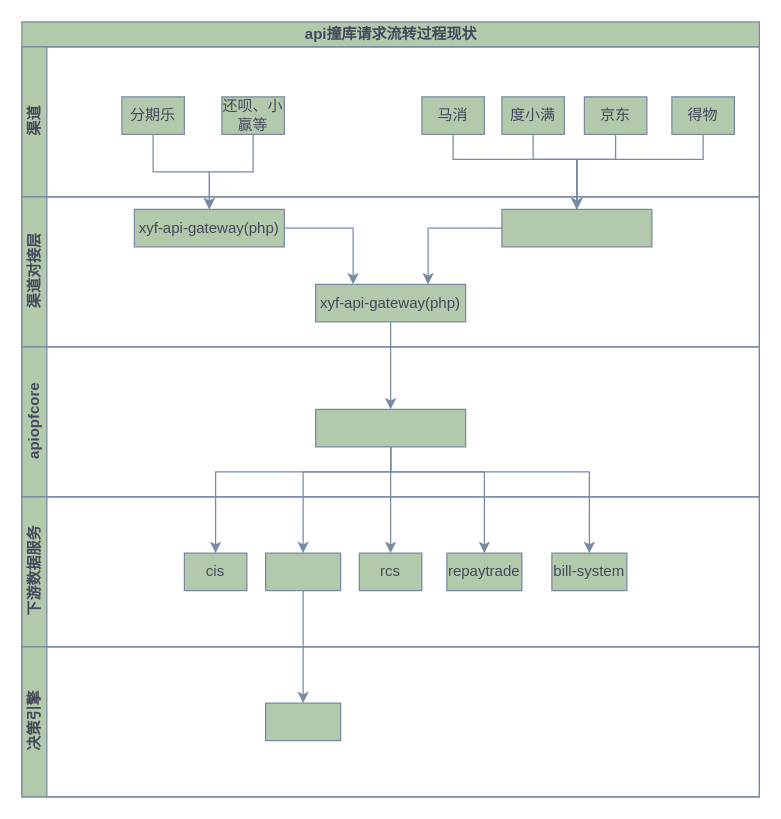
This 781x819 diagram has some shape labels left out. Each missing label, with the centre of its shape:
check-user-info接口组合数据: [390,427]
lendtrade: [302,571]
ugchanprod(java): [576,227]
决策接口: [302,721]
